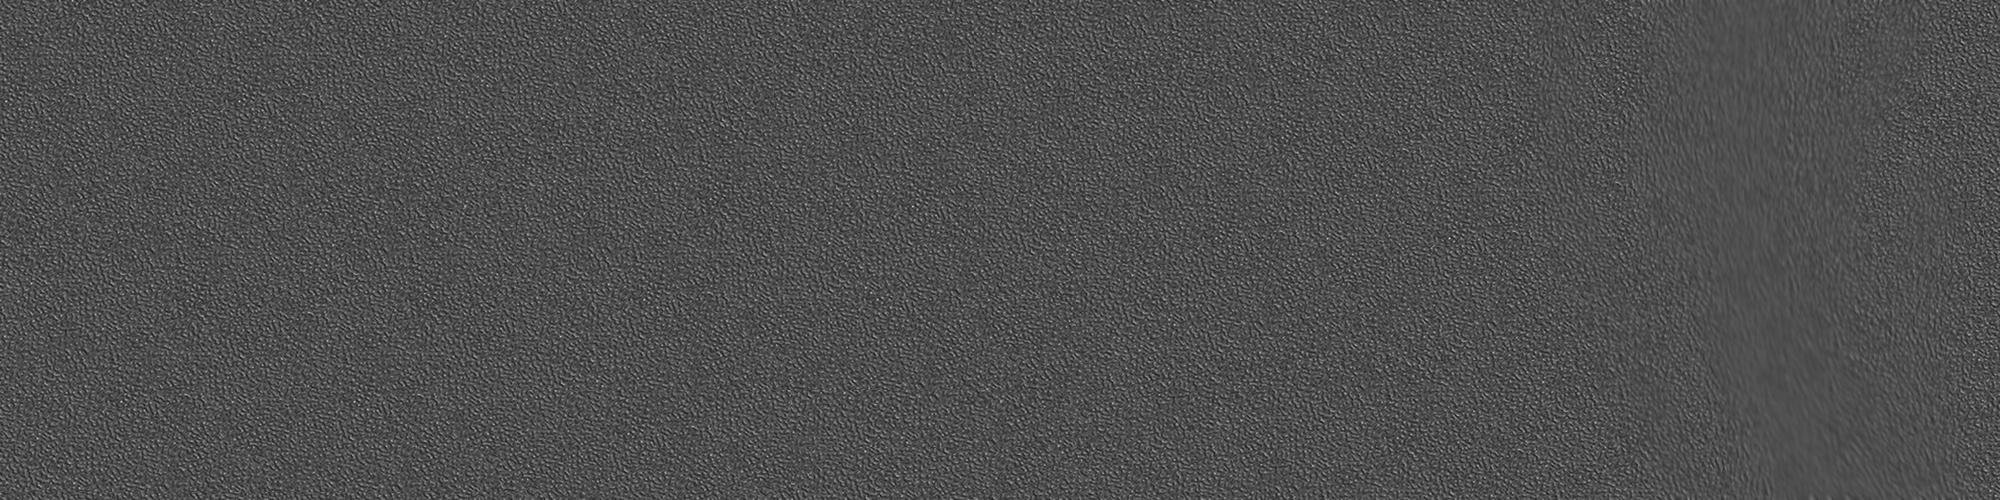Flow_Lines: (1642, 29, 1917, 496)
